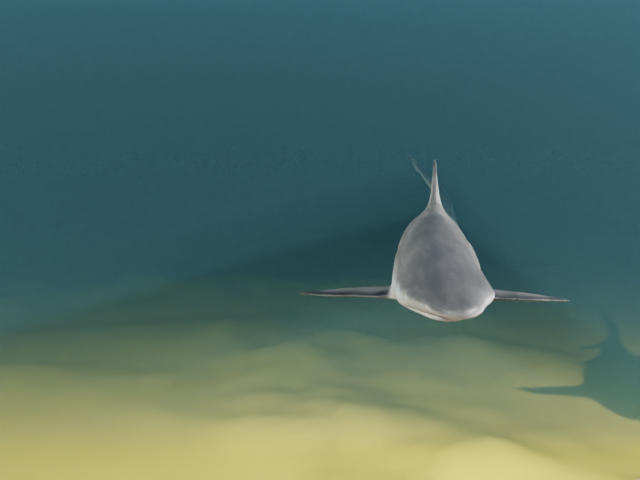Carribean Shark.001: (299, 154, 569, 321)
